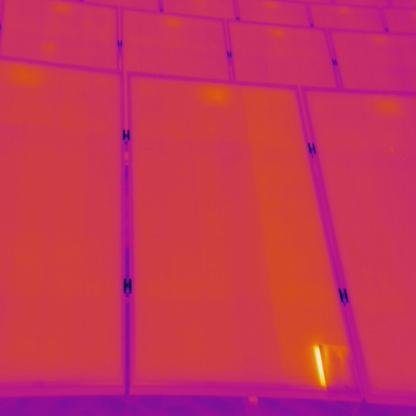hotspot: (312, 341, 351, 390)
